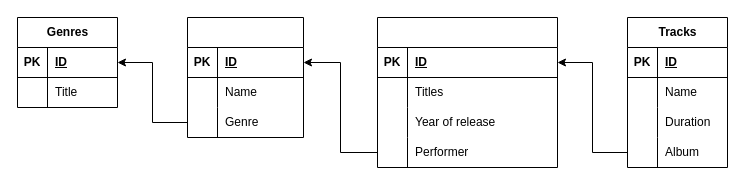
Image size: 745x185. Some labels were removed from this diagram. The shapes that lost their labels are listed below. From the top down, each one's box as (x1, y1, x2, y2) in pixels, then its label:
(186, 16, 304, 138): Performers
(376, 16, 558, 168): Albums
